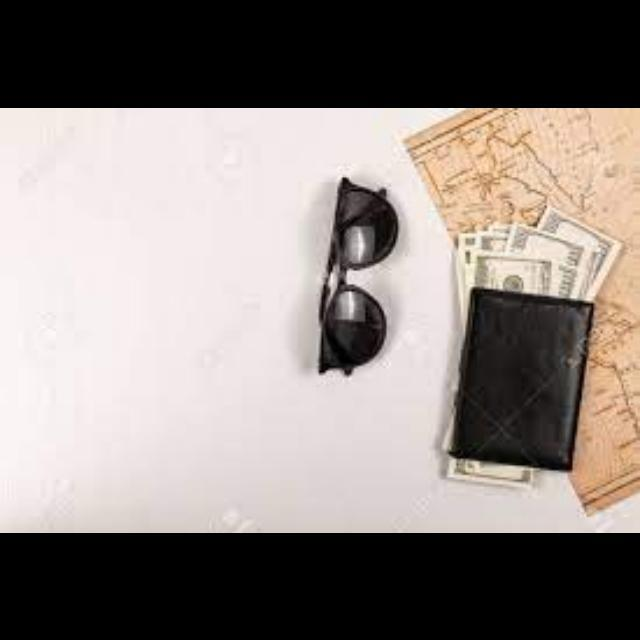wallet: (434, 300, 598, 468)
